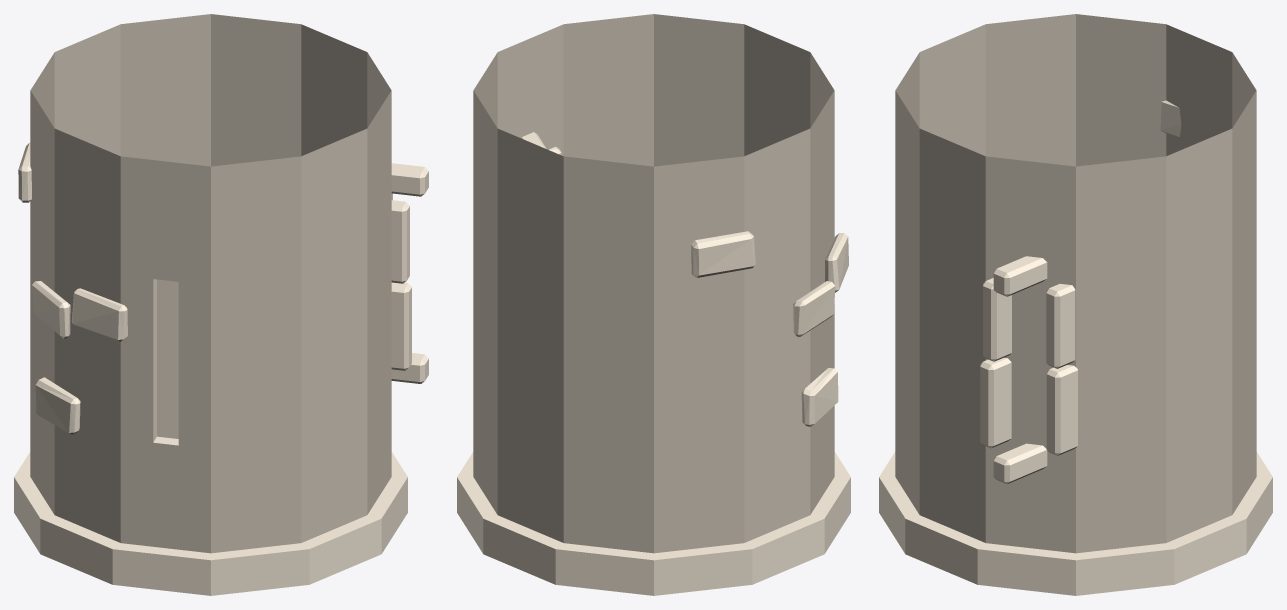
Rendered from SM_VK_Turret_Seg_Stone.fbx.
3 views of the same model, side by side, from view 1: azimuth 30°, elevation 25°; view 2: azimuth 150°, elevation 25°; view 3: azimuth 270°, elevation 25° (orthographic).
Visible parts, largest first — view 1: SM_VK_Turret_Seg_Stone.001; view 2: SM_VK_Turret_Seg_Stone.001; view 3: SM_VK_Turret_Seg_Stone.001.
Part boxes in pixels (bbox=[...]): SM_VK_Turret_Seg_Stone.001: bbox=[14, 14, 428, 595]; SM_VK_Turret_Seg_Stone.001: bbox=[457, 14, 850, 595]; SM_VK_Turret_Seg_Stone.001: bbox=[879, 14, 1272, 595].
Bounding box in the file's own units: 2.48 × 2.84 × 2.4.
